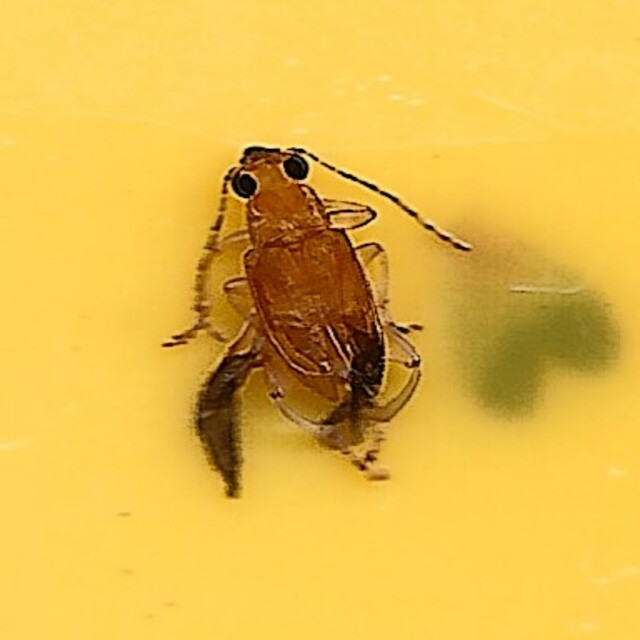Coleoptera: (167, 142, 473, 498)
